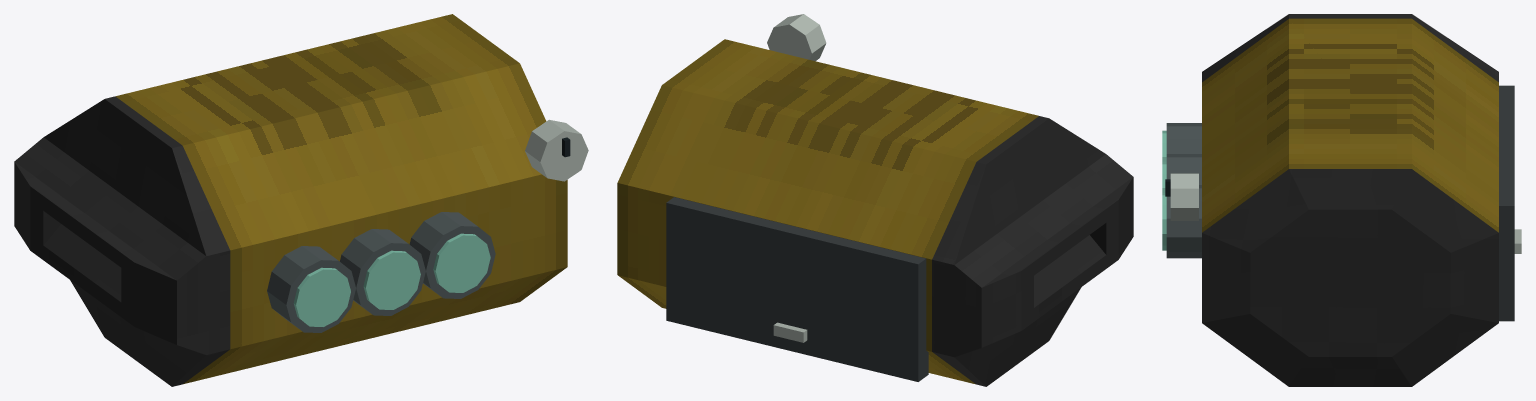
Rendered from blender_dots_projector_2.glb.
The picture shows the model from 3 angles, left to right: view 1: azimuth 30°, elevation 25°; view 2: azimuth 150°, elevation 25°; view 3: azimuth 270°, elevation 25°; orthographic projection. The views are drawn at different scales.
Visible parts, largest first — view 1: blender_dots_projector_2; view 2: blender_dots_projector_2; view 3: blender_dots_projector_2.
Boxes of the visible parts, x1=… form: blender_dots_projector_2: x1=14, y1=14, x2=588, y2=386; blender_dots_projector_2: x1=617, y1=14, x2=1133, y2=386; blender_dots_projector_2: x1=1162, y1=14, x2=1521, y2=386.
Size of the model in its own units: 0.155 by 0.085 by 0.127.
1 material, 1 textured.
